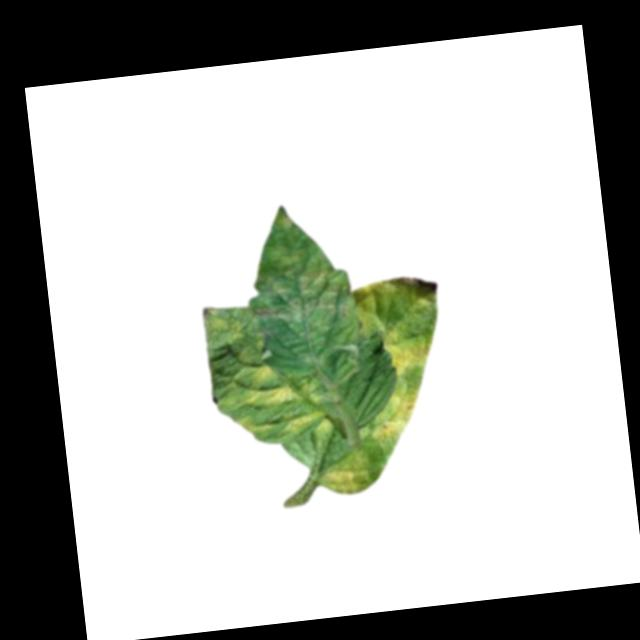Leaf_Mold: (236, 201, 349, 328), (229, 360, 319, 444), (344, 272, 442, 330), (369, 379, 426, 443), (374, 321, 436, 376), (320, 444, 374, 499)
